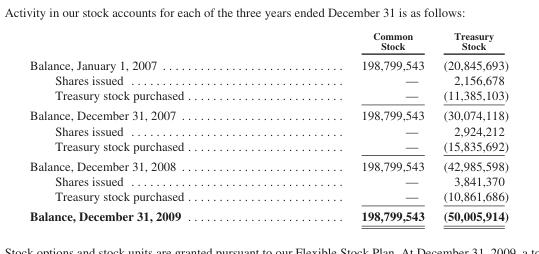table: (28, 29, 507, 223)
table column: (28, 29, 272, 223), (272, 29, 433, 223), (433, 29, 507, 223)
table column header: (28, 29, 507, 54)
table row: (28, 29, 507, 54), (28, 54, 507, 72), (28, 104, 507, 122), (28, 137, 507, 155), (28, 155, 507, 173), (28, 205, 507, 223), (28, 87, 507, 104), (28, 188, 507, 205), (28, 72, 507, 87), (28, 122, 507, 137), (28, 173, 507, 188)
